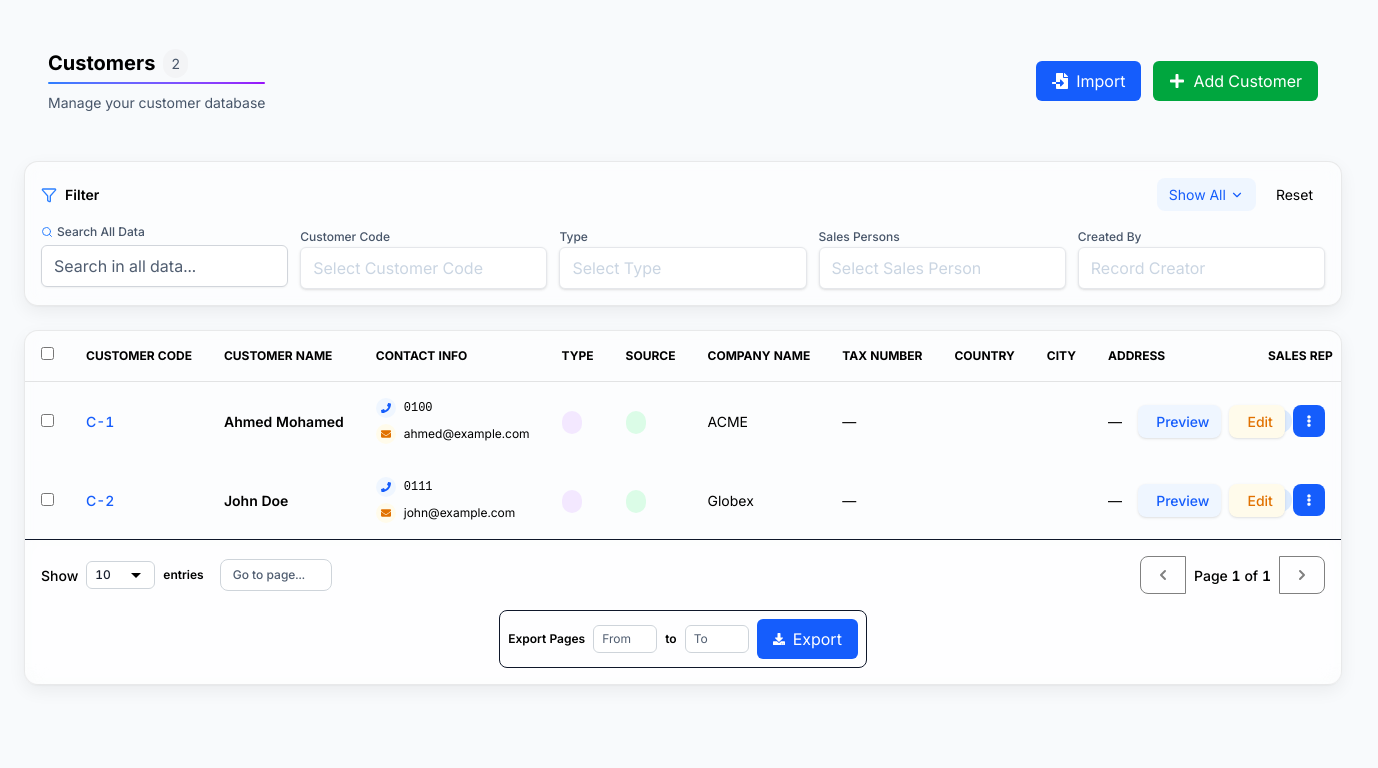
Test: Customers Page › filters customers by search query
expect the text "Ahmed Mohamed" is shown: met, box [208, 382, 360, 460]
Step 1. Type "John" into the field with placeholder "Search in all data..." → (165, 266), box [41, 245, 288, 287]
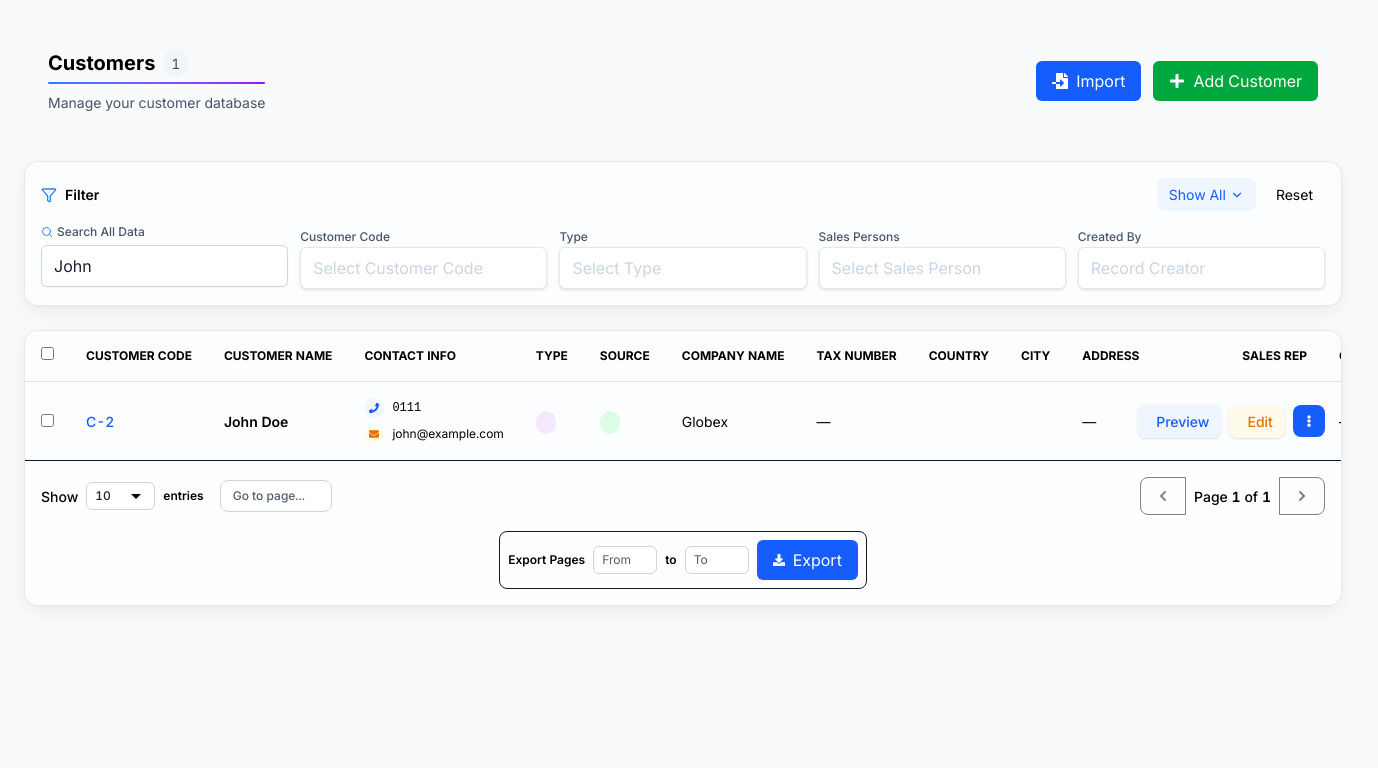
expect the text "John Doe" is shown: met, box [208, 382, 348, 460]
expect the text "Ahmed Mohamed" is not shown: met
